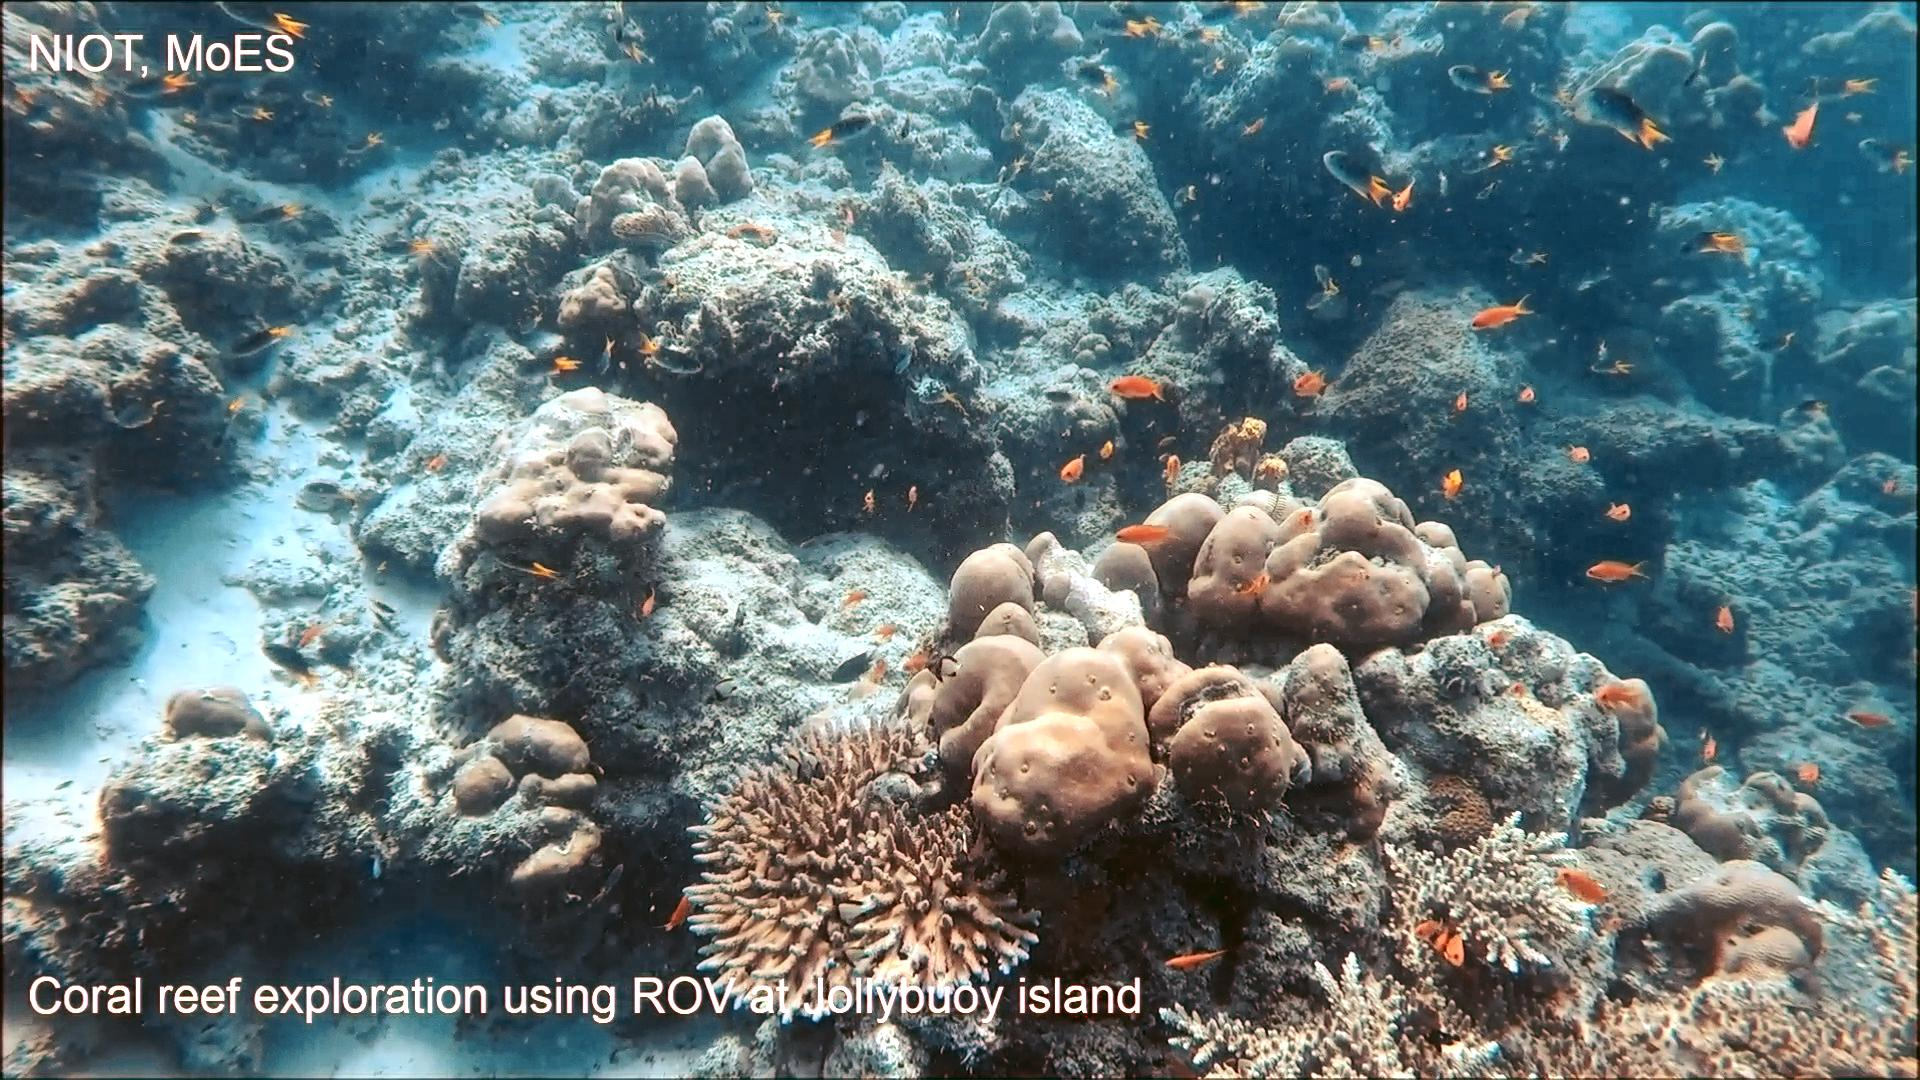Porites-Porites pukoensis: (898, 530, 1304, 870), (1146, 472, 1516, 655)
